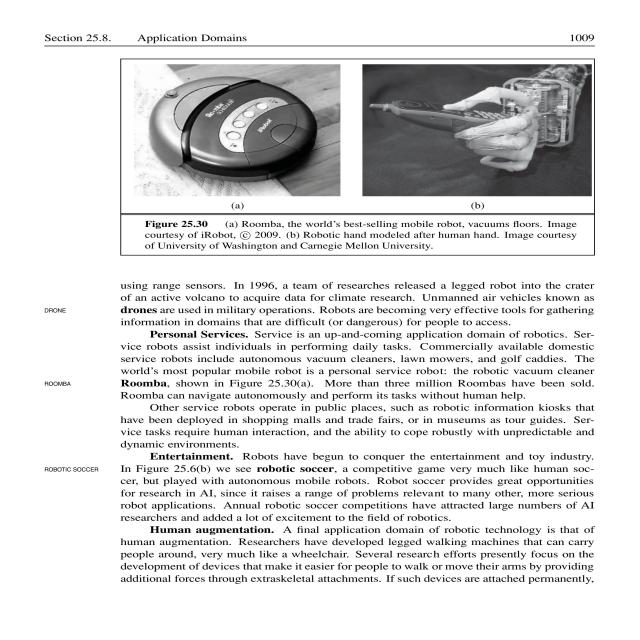diagram: (118, 59, 620, 262)
